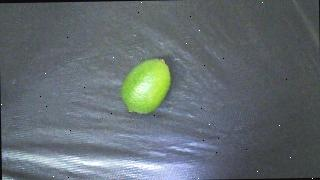LOCAL: (120, 58, 171, 114)
